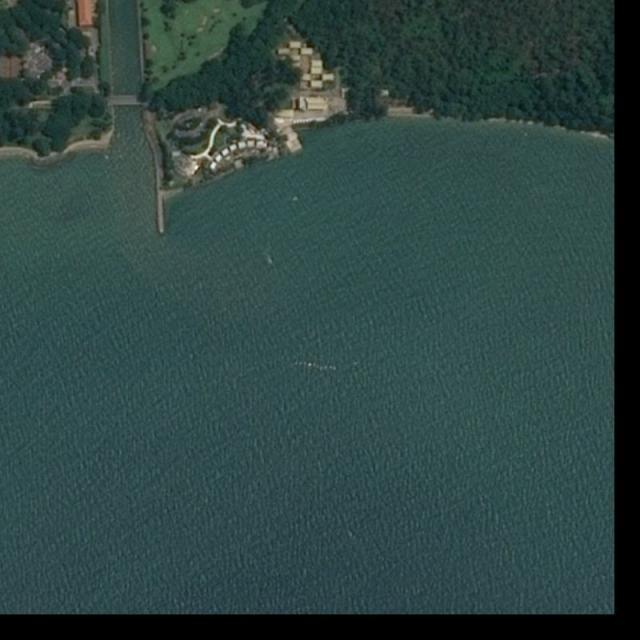ship: (269, 258, 274, 263)
